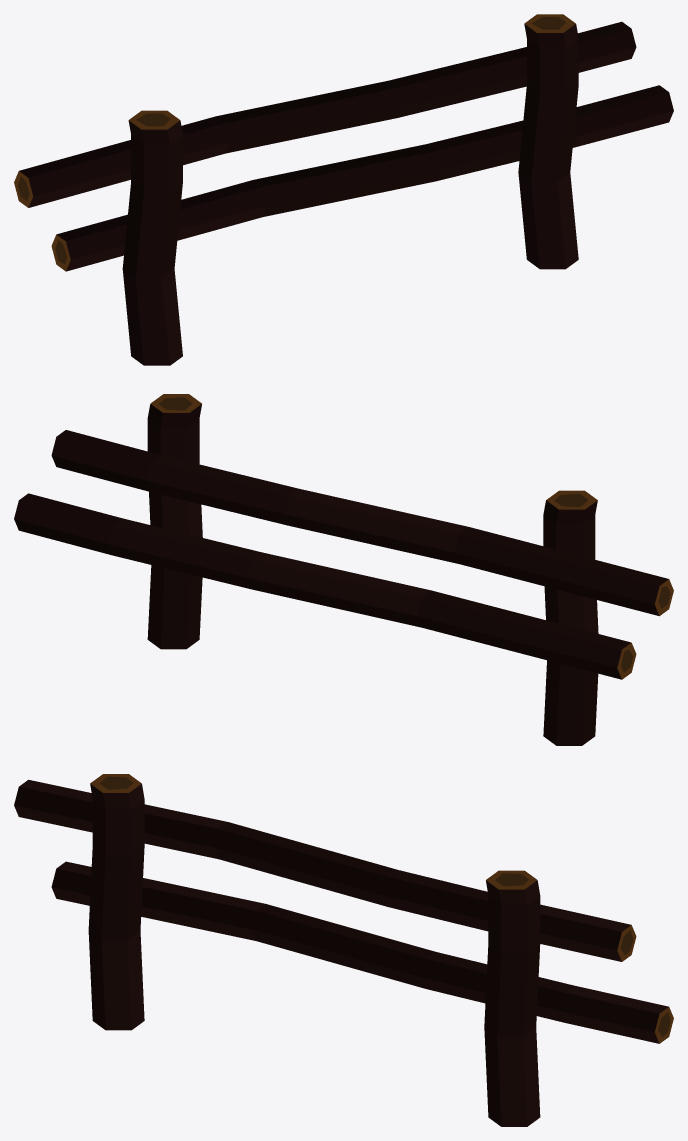
File: railS_1.fbx
3 views of the same model, one above another, from view 1: azimuth 30°, elevation 25°; view 2: azimuth 150°, elevation 25°; view 3: azimuth 330°, elevation 25° (orthographic).
Parts seen in each view (by area): view 1: railS_1; view 2: railS_1; view 3: railS_1.
Part boxes in pixels (x1=…): railS_1: x1=14, y1=14, x2=673, y2=365; railS_1: x1=14, y1=394, x2=673, y2=745; railS_1: x1=14, y1=774, x2=673, y2=1126.
Size of the model in its own units: 444 by 52.11 by 157.
